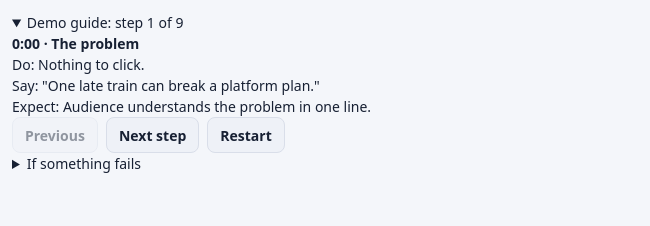
Test: DemoGuide › shows the Hinglish phrase and copies it
Click the button "Next step" at (153, 135), box [106,117,199,153]
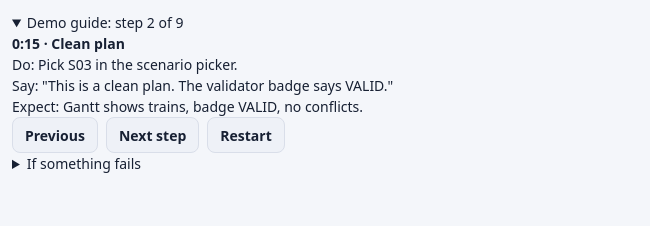
Click the button "Next step" at (153, 135), box [106,117,199,153]
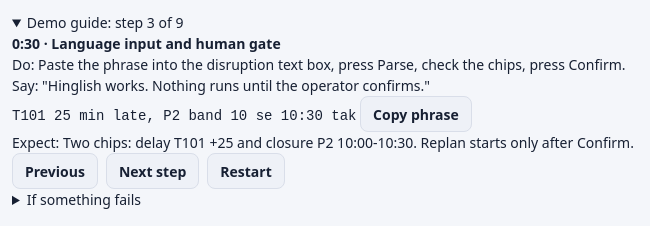
Now the text with test id "demo-phrase" reads "T101 25 min late, P2 band 10 se 10:30 tak", box [12,108,356,124]
Click the button "Copy phrase" at (416, 114), box [360,96,472,132]
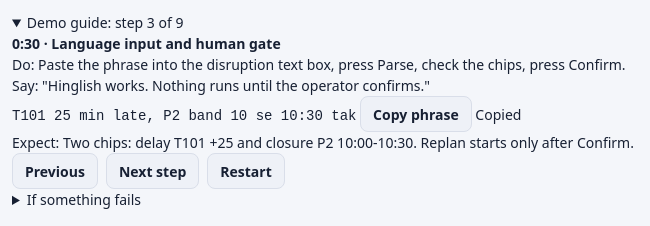
Now the text "Copied" is shown, box [475,104,521,124]
